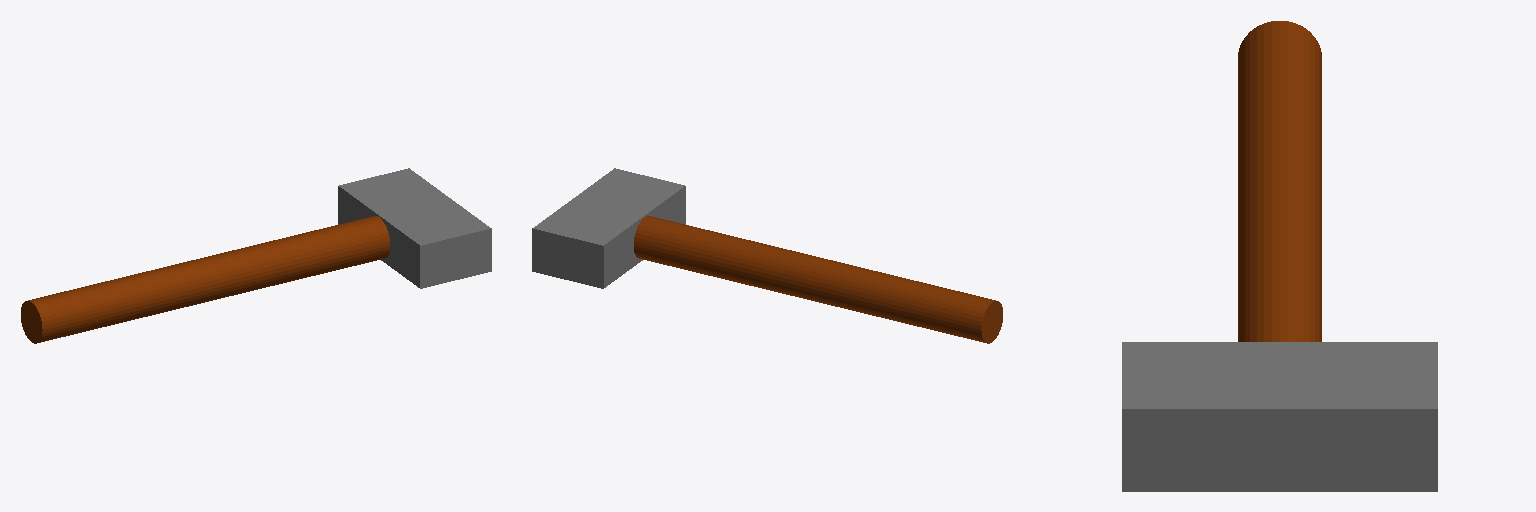
robot.urdf — handle_head:
<?xml version="1.0"?>
<robot name="handle_head">

  <link name="handle_head">
    <!-- Handle -->
    <visual>
              <origin xyz="0 0 0" rpy="0 -1.5707963267948966 0"/>
        <geometry>
          <cylinder length="0.17562346409399762" radius="0.009660296298095979"/>
        </geometry>
        
      <material name="brown">
        <color rgba="0.55 0.27 0.07 1.0"/>
      </material>
    </visual>
    <collision>
              <origin xyz="0 0 0" rpy="0 -1.5707963267948966 0"/>
        <geometry>
          <cylinder length="0.17562346409399762" radius="0.009660296298095979"/>
        </geometry>
        
    </collision>

    <!-- Head -->
    <visual>
              <origin xyz="0.10575309293507884 0 0" rpy="0 0 0"/>
        <geometry>
          <box size="0.03588272177616006 0.07196469169683388 0.02085706120213668"/>
        </geometry>
        
      <material name="gray">
        <color rgba="0.5 0.5 0.5 1.0"/>
      </material>
    </visual>
    <collision>
              <origin xyz="0.10575309293507884 0 0" rpy="0 0 0"/>
        <geometry>
          <box size="0.03588272177616006 0.07196469169683388 0.02085706120213668"/>
        </geometry>
        
    </collision>

    <inertial>
      <origin xyz="0.0840096381267893 0 0" rpy="0 0 0"/>
      <mass value="0.09388193432870565"/>
      <inertia ixx="3.577861937405471e-05" iyy="0.00023989788894097488" izz="0.0002693809336474101" ixy="0" ixz="0" iyz="0"/>
    </inertial>
  </link>

</robot>

--- What the picture shows (computed from the rendered views, not written in the file) ---
3 views of the same robot in one strip: view 1: azimuth 30°, elevation 25°; view 2: azimuth 150°, elevation 25°; view 3: azimuth 270°, elevation 25° (orthographic).
Robot: handle_head — 1 links, 0 joints (none); root link handle_head; default pose: every joint at zero.
Visible links, largest first — view 1: handle_head; view 2: handle_head; view 3: handle_head.
Boxes of the visible links, x1,y1,x2,y2 form: handle_head: [21, 168, 491, 343]; handle_head: [532, 168, 1002, 343]; handle_head: [1122, 21, 1437, 491].
Size in the robot's own frame: 0.2115 by 0.072 by 0.0209 metres.
Geometry: primitives only (box / cylinder / sphere), no mesh files.
